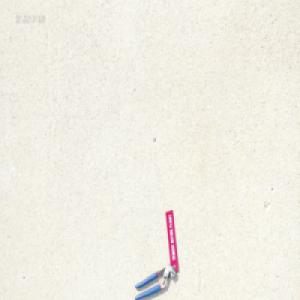Label: (165, 208, 179, 271)
Pliers: (134, 263, 175, 300)
